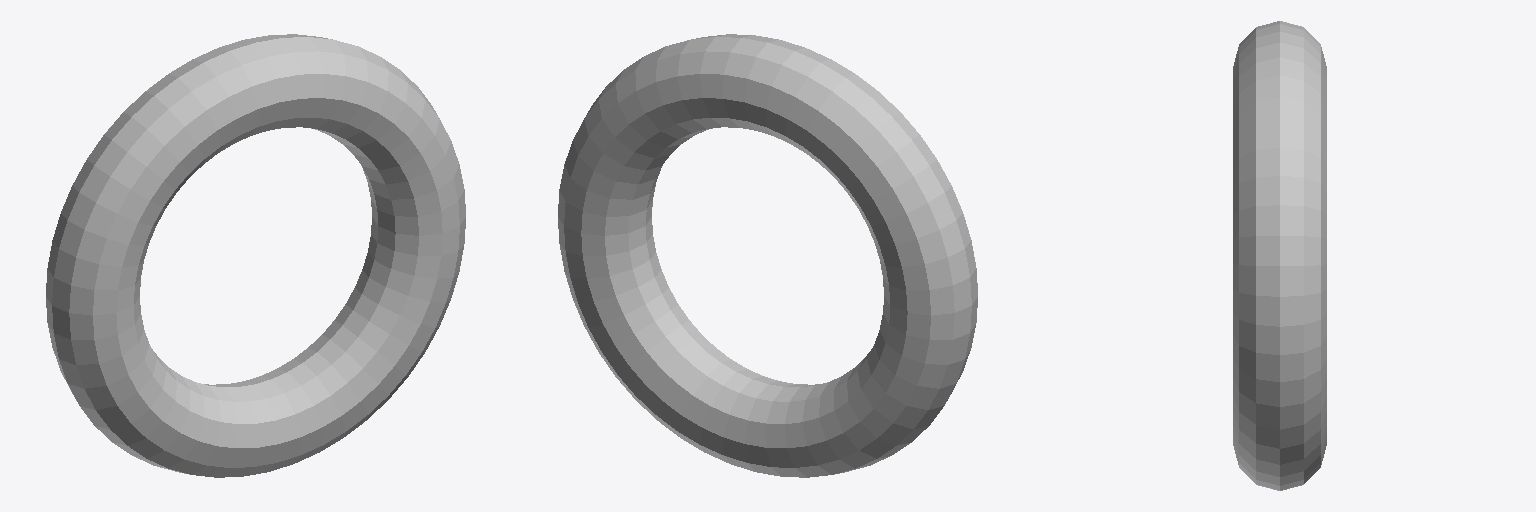
The model's file is torus_smooth.obj.
3 views of the same model, side by side, from view 1: azimuth 30°, elevation 25°; view 2: azimuth 150°, elevation 25°; view 3: azimuth 270°, elevation 25° (orthographic).
Parts seen in each view (by area): view 1: Torus.001; view 2: Torus.001; view 3: Torus.001.
Part boxes in pixels (bbox=[...]): Torus.001: bbox=[46, 34, 465, 477]; Torus.001: bbox=[558, 34, 977, 477]; Torus.001: bbox=[1233, 21, 1326, 490].
Size of the model in its own units: 15.6 by 15.6 by 3.12.